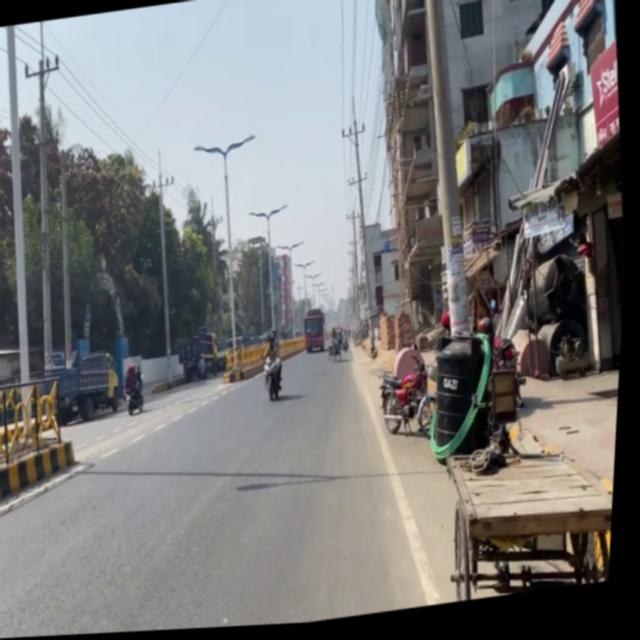Construction-barrier: (0, 437, 84, 503)
Fallen-tree: (379, 366, 441, 443), (264, 358, 288, 405), (125, 380, 150, 418), (372, 349, 382, 363)
Light-pole: (406, 0, 490, 345), (0, 23, 50, 400)
Pothole: (344, 306, 626, 619), (507, 366, 624, 598)
Traffic-cone: (441, 436, 621, 607), (48, 347, 127, 426), (179, 327, 226, 385), (303, 309, 331, 357)
